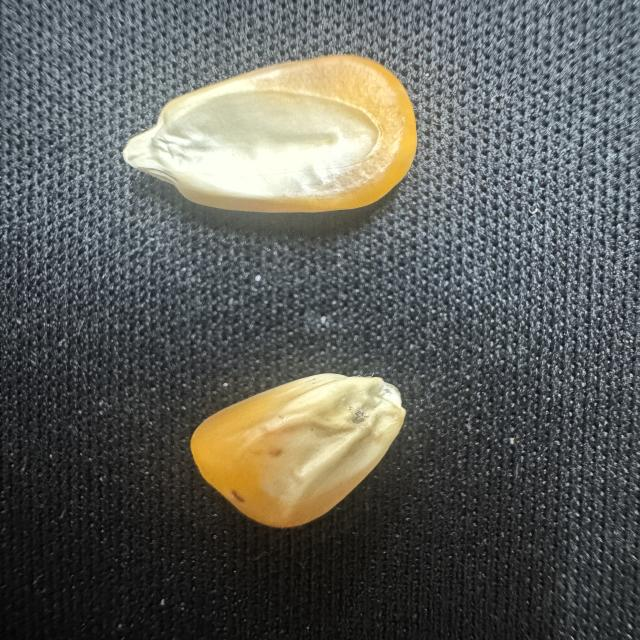Bad-Seed: (176, 361, 414, 541)
Good-Seed: (119, 45, 423, 226)
